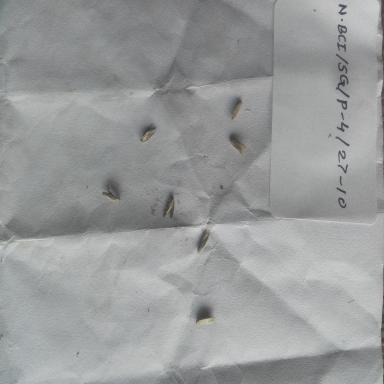pbw: (102, 180, 125, 209), (134, 121, 158, 148), (228, 98, 244, 126), (162, 195, 177, 224), (196, 226, 210, 254), (227, 136, 246, 155), (192, 314, 215, 328)
